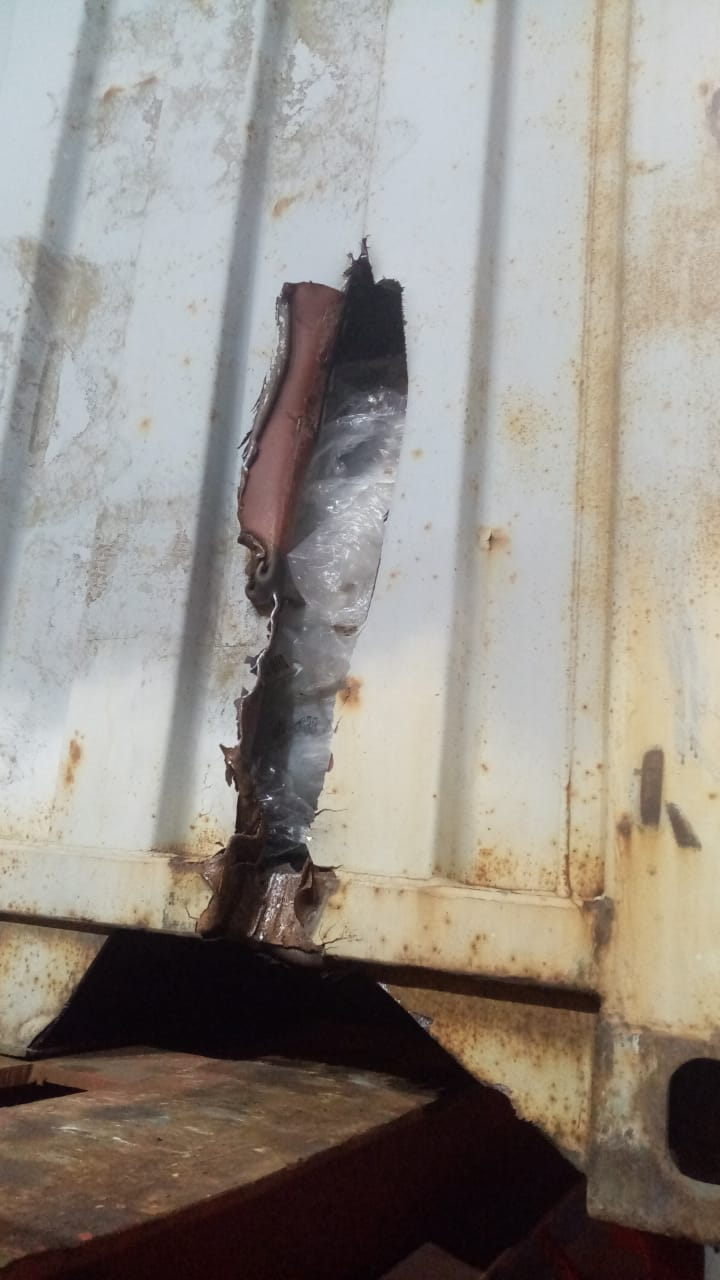cut: (185, 202, 409, 910)
